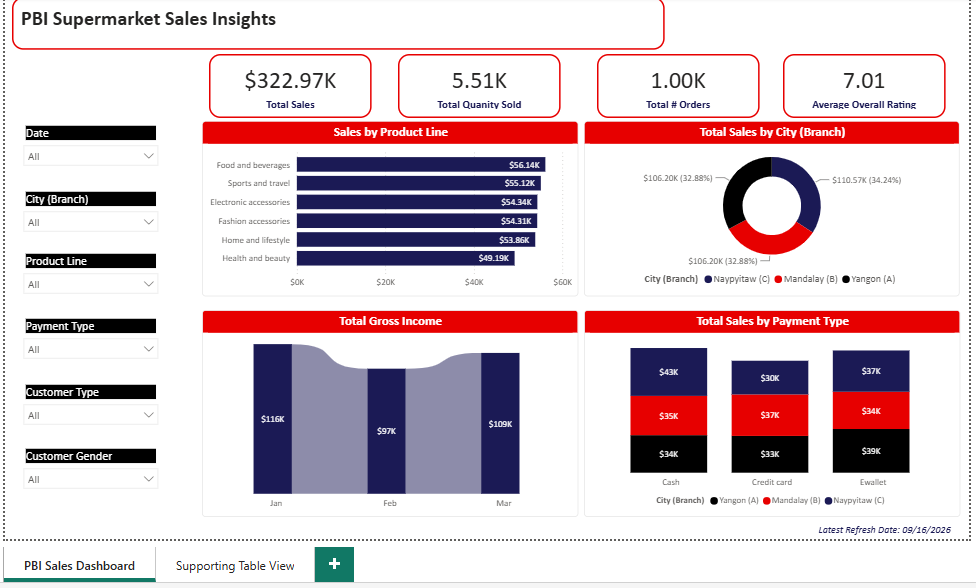

What the dashboard file says about the page in this screenshot:
{"tool":"powerbi","page":{"name":"PBI Sales Dashboard","canvas":[1280,720],"ordinal":0},"visuals":[{"type":"textbox","box":[9.9,0,867,70.3],"z":0},{"type":"clusteredBarChart","title":"Sales by Product Line","fields":{"Category":["DIM_ProdLine.Product line"],"Y":["Sum(Sales Data.Total - Sum)"]},"box":[261.3,165.3,499.8,232.6],"z":1000},{"type":"donutChart","title":"Total Sales by City (Branch)","fields":{"Category":["DIM_CityBranch.City (Branch)"],"Y":["Sum(Sales Data.Total - Sum)"]},"box":[769,165.3,499,232.6],"z":2000},{"type":"ribbonChart","title":"Total Gross Income","fields":{"Category":["DIM_Date.Month Name","DIM_Date.Quarter"],"Y":["Calc.Total Sales"]},"box":[261.3,415.7,499.8,275.1],"z":3000},{"type":"columnChart","title":"Total Sales by Payment Type","fields":{"Category":["DIM_Payment.Payment","DIM_Gender.Gender"],"Series":["DIM_CityBranch.City (Branch)"],"Y":["Sum(Sales Data.Total - Sum)"]},"box":[769,415.7,499.8,275.1],"z":4000},{"type":"slicer","fields":{"Values":["DIM_CityBranch.City","DIM_CityBranch.Branch"]},"box":[14.8,253.4,198.9,77],"z":5000},{"type":"slicer","fields":{"Values":["DIM_Date.Year","DIM_Date.Quarter","DIM_Date.Month Name","DIM_Date.Date"]},"box":[14.8,166.3,198.9,77.2],"z":6000},{"type":"slicer","fields":{"Values":["DIM_ProdLine.Product line"]},"box":[14.8,335.5,198.9,77.2],"z":7000},{"type":"slicer","fields":{"Values":["DIM_Payment.Payment"]},"box":[14.8,422.6,198.9,77],"z":8000},{"type":"slicer","fields":{"Values":["DIM_CustomerType.Customer type"]},"box":[14.8,509.7,198.9,77],"z":9000},{"type":"slicer","fields":{"Values":["DIM_Gender.Gender"]},"box":[14.8,595.8,198.9,77.2],"z":10000},{"type":"card","fields":{"Values":["Calcs.Total Sales"]},"box":[271.2,76.2,216.4,85.3],"z":11000},{"type":"card","fields":{"Values":["Calcs.Total Quanity Sold"]},"box":[522.7,76.2,216.4,85.3],"z":12000},{"type":"card","fields":{"Values":["Sum(Sales Data.# Orders)"]},"box":[786.3,76.2,215.8,85.1],"z":13000},{"type":"card","fields":{"Values":["Avg(Sales Data.Avg Rating)"]},"box":[1033.1,76.2,215.8,85.1],"z":14000},{"type":"card","fields":{"Values":["Calc.Refresh date"]},"box":[1067.9,694.8,200.9,24.7],"z":15000}]}

Visuals, with their boxes on the page's 1280x720 design canvas (x1, y1, x2, y2). These are canvas units, not pixel positions in the 976x588 screenshot, which may show the page scaled, cropped or inside an application window:
textbox: box=[10, 0, 877, 70]
"Sales by Product Line" clusteredBarChart: box=[261, 165, 761, 398]
"Total Sales by City (Branch)" donutChart: box=[769, 165, 1268, 398]
"Total Gross Income" ribbonChart: box=[261, 416, 761, 691]
"Total Sales by Payment Type" columnChart: box=[769, 416, 1269, 691]
slicer - DIM_CityBranch.City x DIM_CityBranch.Branch: box=[15, 253, 214, 330]
slicer - DIM_Date.Year x DIM_Date.Quarter: box=[15, 166, 214, 244]
slicer - DIM_ProdLine.Product line: box=[15, 336, 214, 413]
slicer - DIM_Payment.Payment: box=[15, 423, 214, 500]
slicer - DIM_CustomerType.Customer type: box=[15, 510, 214, 587]
slicer - DIM_Gender.Gender: box=[15, 596, 214, 673]
card - Calcs.Total Sales: box=[271, 76, 488, 162]
card - Calcs.Total Quanity Sold: box=[523, 76, 739, 162]
card - Sum(Sales Data.# Orders): box=[786, 76, 1002, 161]
card - Avg(Sales Data.Avg Rating): box=[1033, 76, 1249, 161]
card - Calc.Refresh date: box=[1068, 695, 1269, 720]
